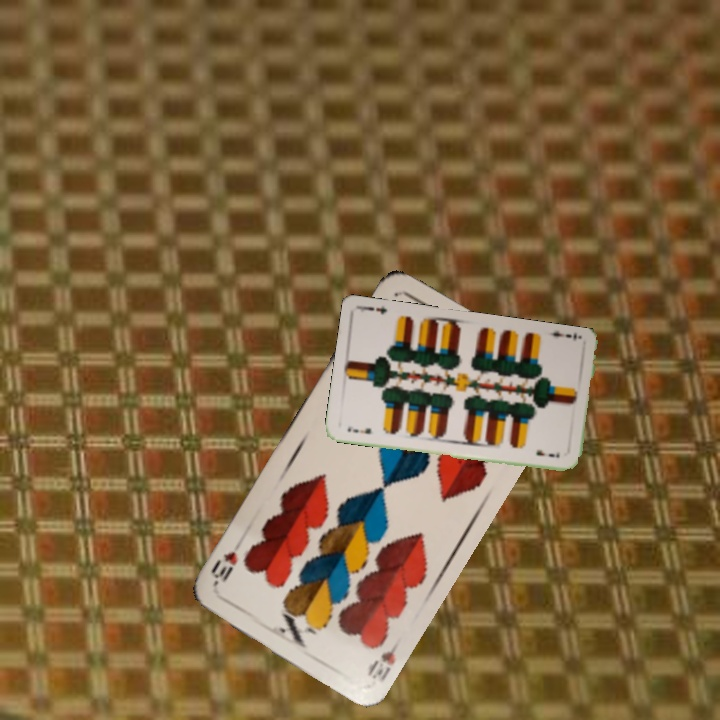E7: (543, 327, 579, 342), (343, 422, 374, 436)
H10: (363, 633, 405, 684)
